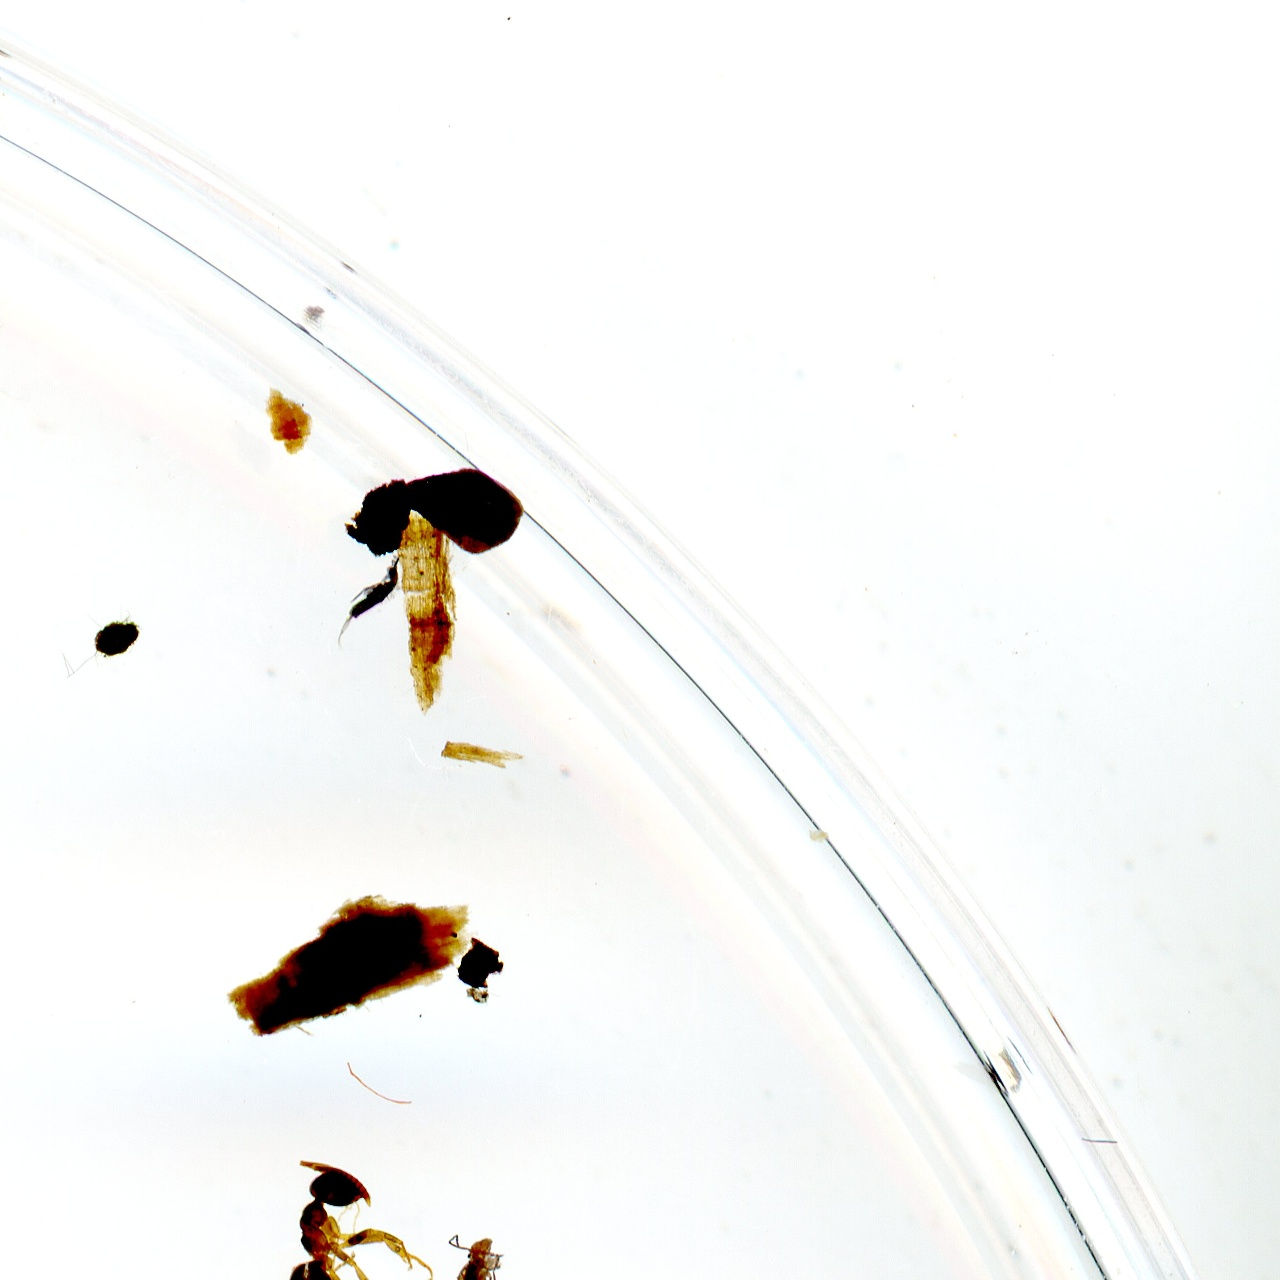arthropod: (280, 1155, 438, 1280), (333, 554, 403, 649), (445, 1230, 506, 1280)
